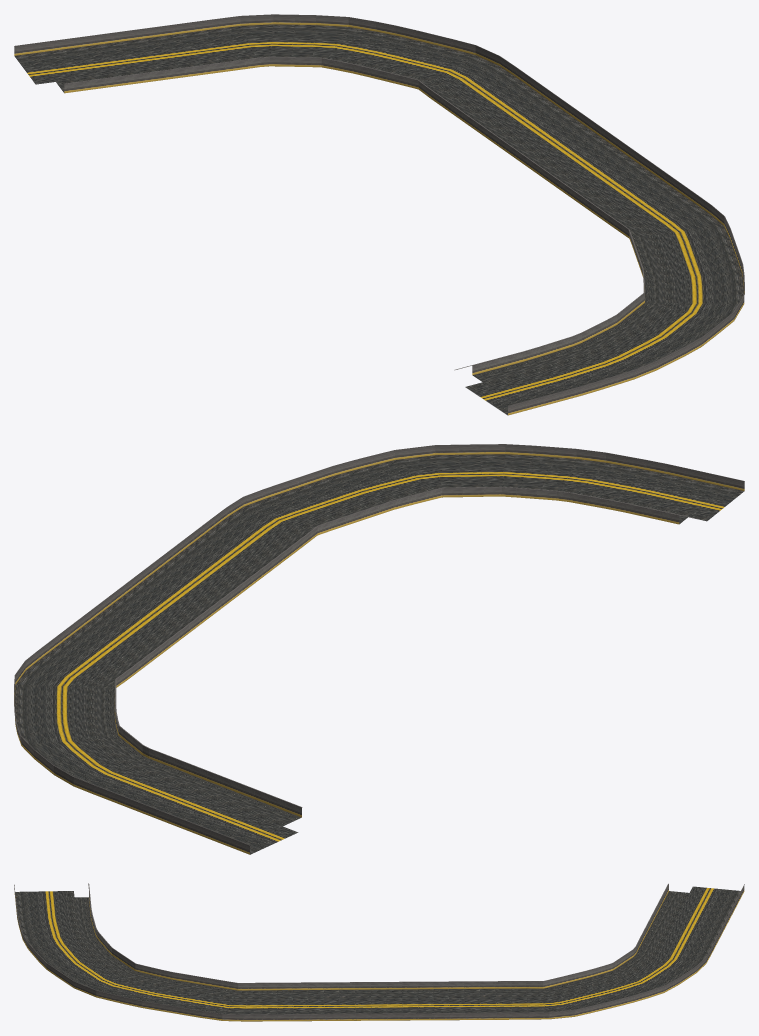
Rendered from road_block_01.obj.
3 views of the same model, one above another, from view 1: azimuth 30°, elevation 25°; view 2: azimuth 150°, elevation 25°; view 3: azimuth 270°, elevation 25° (orthographic). The views are drawn at different scales.
Visible parts, largest first — view 1: Road_display.001_Cube.005; view 2: Road_display.001_Cube.005; view 3: Road_display.001_Cube.005.
Boxes of the visible parts, left/top/right/bottom form: Road_display.001_Cube.005: left=14, top=14, right=744, bottom=415; Road_display.001_Cube.005: left=14, top=444, right=744, bottom=854; Road_display.001_Cube.005: left=14, top=883, right=744, bottom=1021.
Size of the model in its own units: 63.38 by 1.57 by 145.
Materials: 1 (1 with a texture image).
